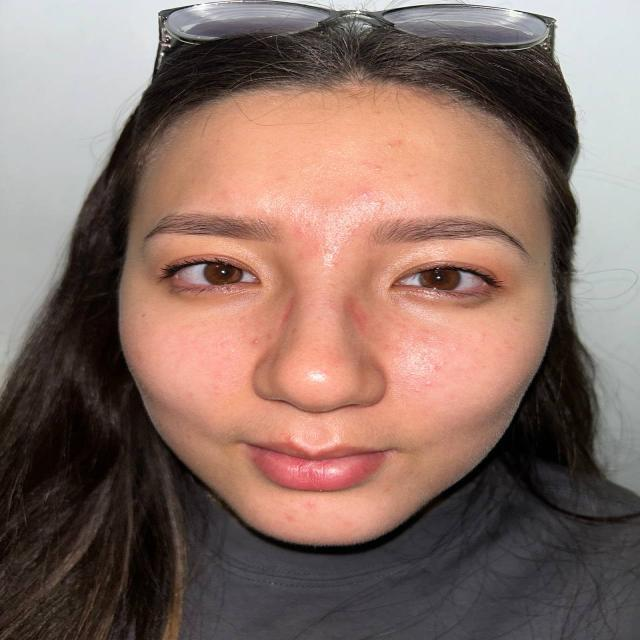acne: (425, 378, 436, 388), (430, 363, 443, 370), (375, 165, 385, 173), (328, 282, 337, 290)
blackhead: (306, 338, 342, 360)
nodules: (359, 188, 385, 208), (302, 497, 320, 509), (295, 223, 309, 237), (280, 431, 296, 441), (385, 142, 402, 150), (250, 336, 262, 346)
skinredness: (341, 296, 366, 324), (277, 295, 298, 326)
